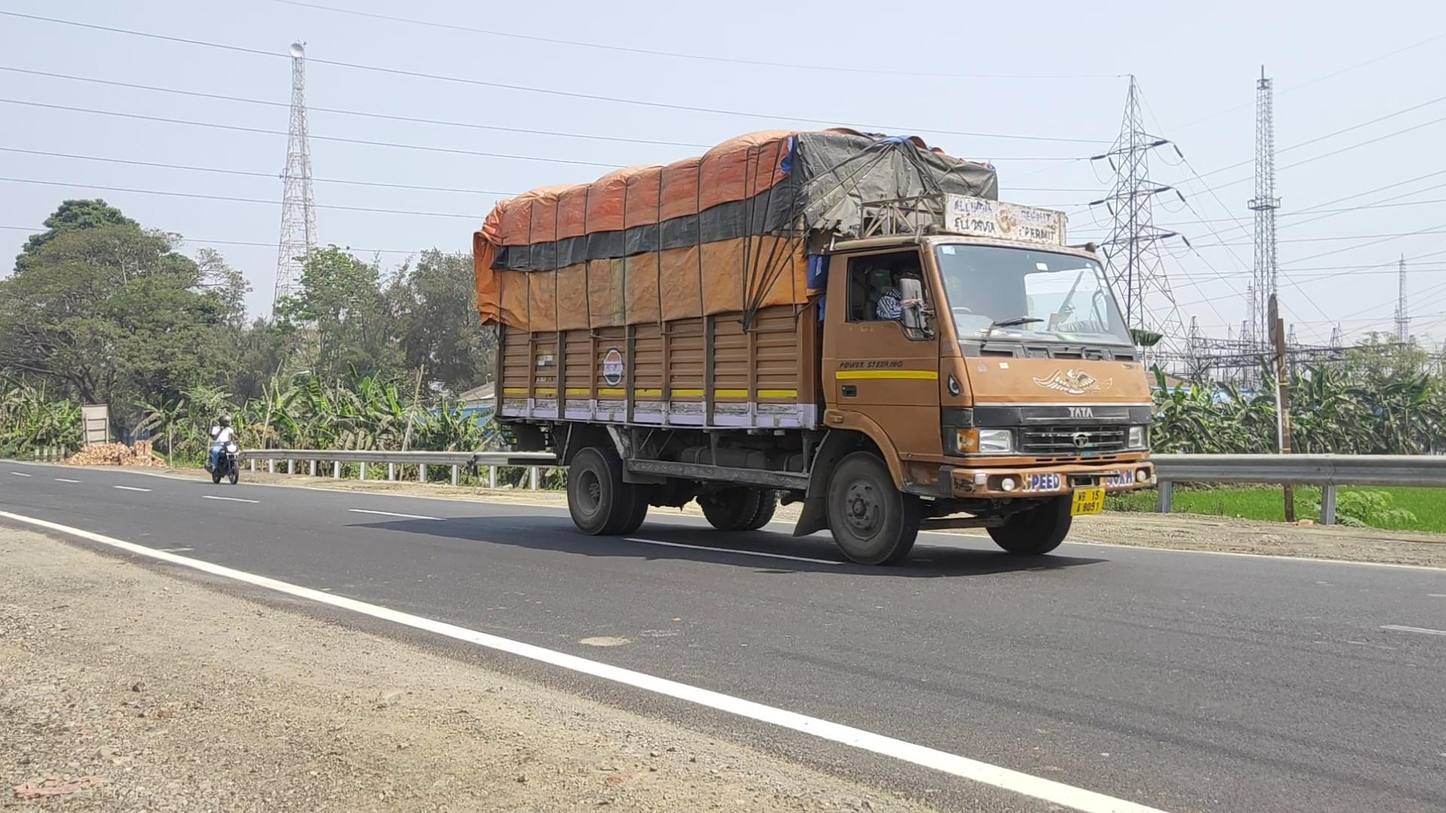bike: (203, 415, 242, 484)
truck: (474, 127, 1158, 567)
